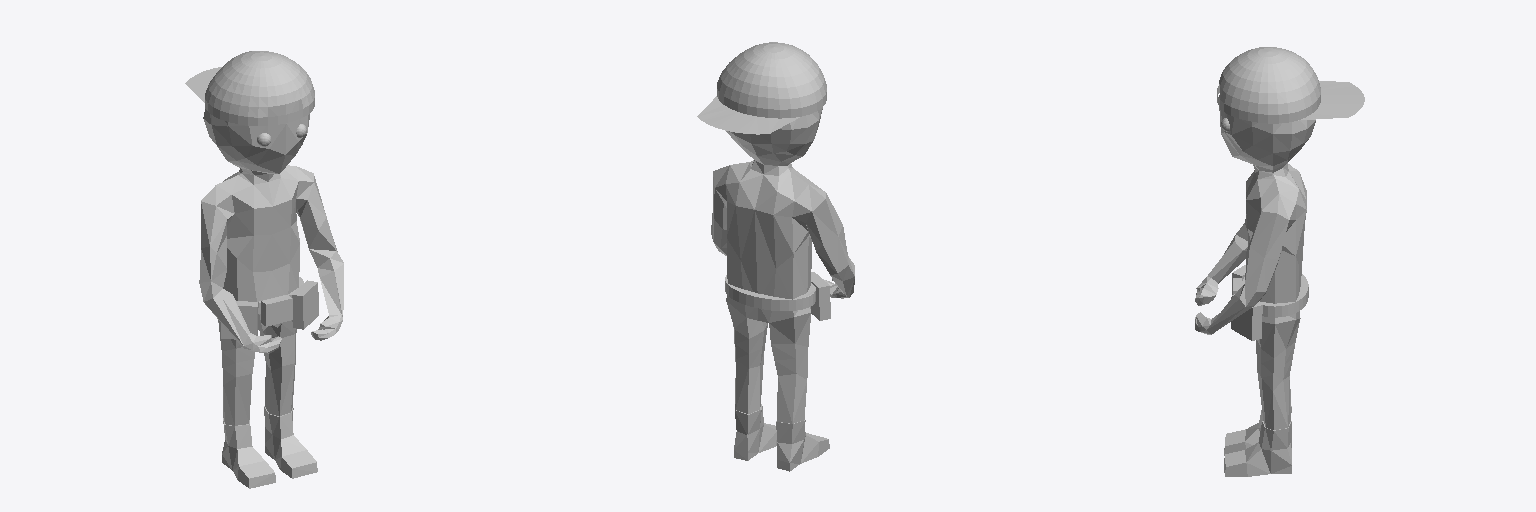
Rendered from Main_Character_TireRack_11.obj.
The picture shows the model from 3 angles: view 1: azimuth 30°, elevation 25°; view 2: azimuth 150°, elevation 25°; view 3: azimuth 270°, elevation 25°; orthographic projection.
Parts seen in each view (by area): view 1: Main_Character_Test.003_Main_Character_Test.004; view 2: Main_Character_Test.003_Main_Character_Test.004; view 3: Main_Character_Test.003_Main_Character_Test.004.
Part boxes in pixels (x1,y1,x2,y2): Main_Character_Test.003_Main_Character_Test.004: (185,51,343,488); Main_Character_Test.003_Main_Character_Test.004: (697,42,854,471); Main_Character_Test.003_Main_Character_Test.004: (1195,47,1364,476).
Size of the model in its own units: 1.42 by 3.98 by 1.5.